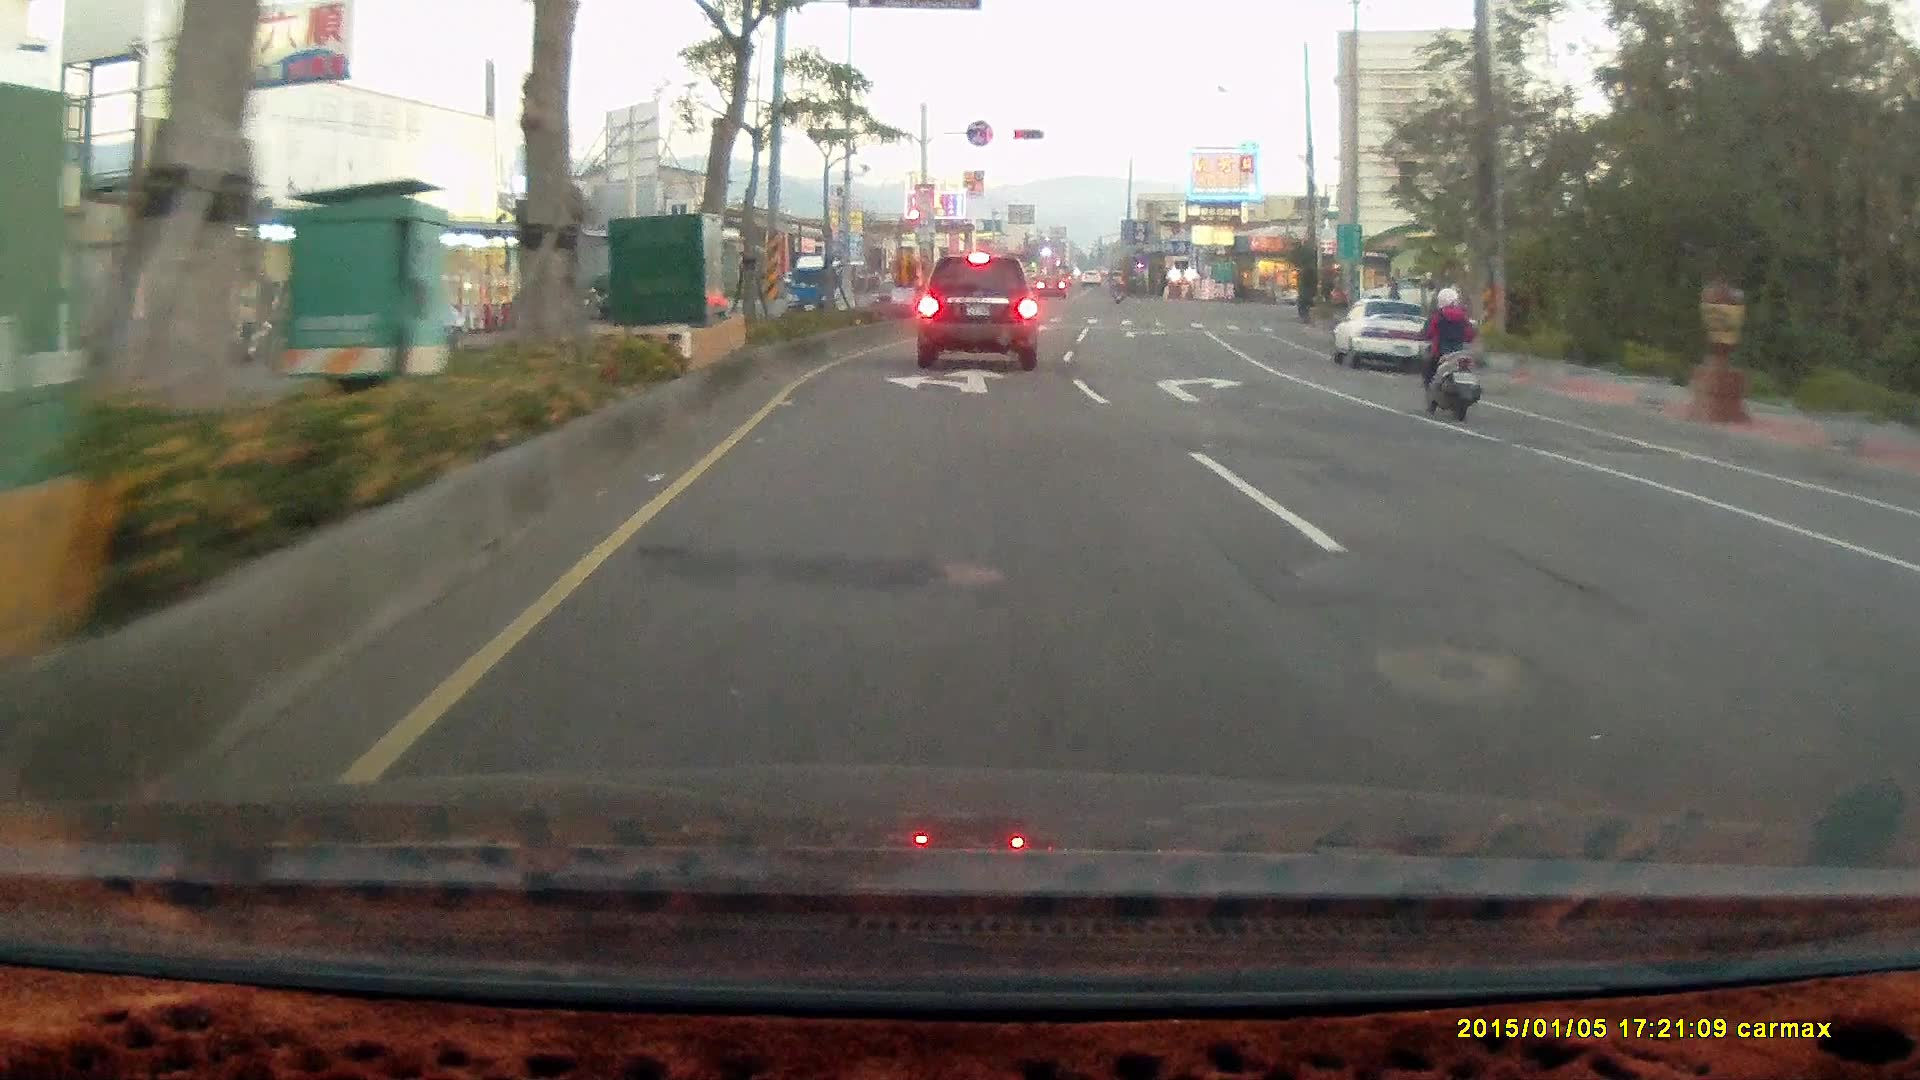rider: (1406, 278, 1485, 417)
vehicle: (916, 253, 1038, 371), (1333, 296, 1445, 374), (1329, 294, 1442, 372), (1896, 493, 1920, 836), (1883, 528, 1920, 690), (1358, 275, 1445, 312)
